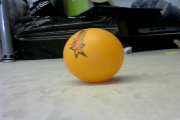PingPongBall: (63, 29, 124, 82)
